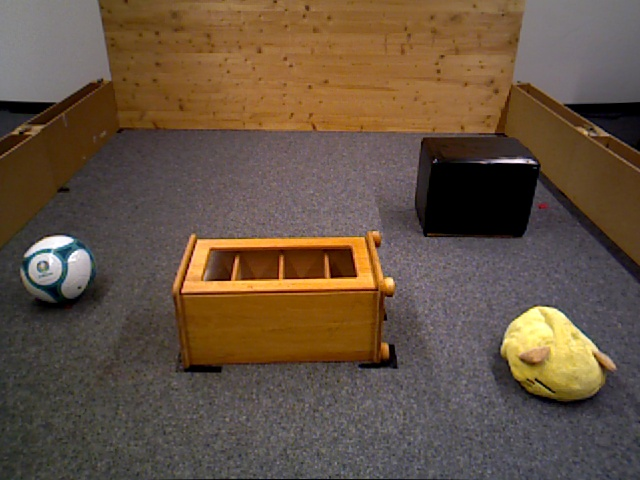grasp: (502, 306, 605, 404)
kick: (20, 235, 96, 310)
push: (420, 136, 540, 238)
